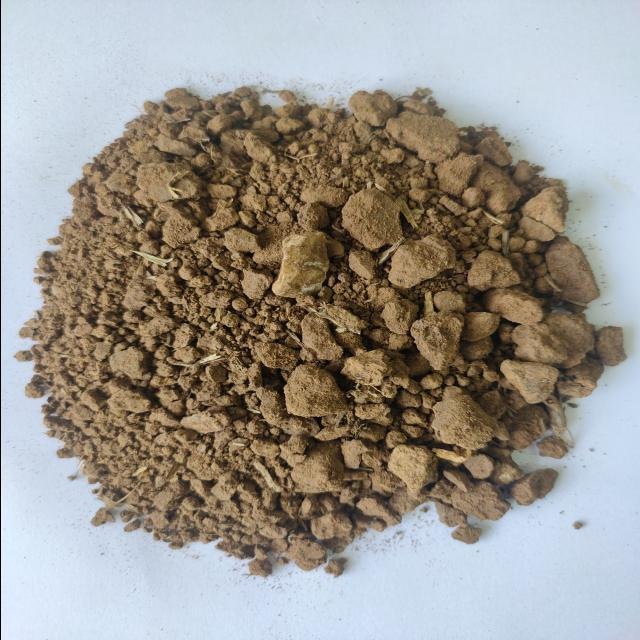soil: (116, 140, 478, 498)
